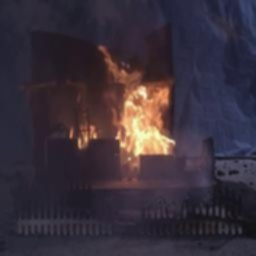fire: (91, 50, 182, 160)
